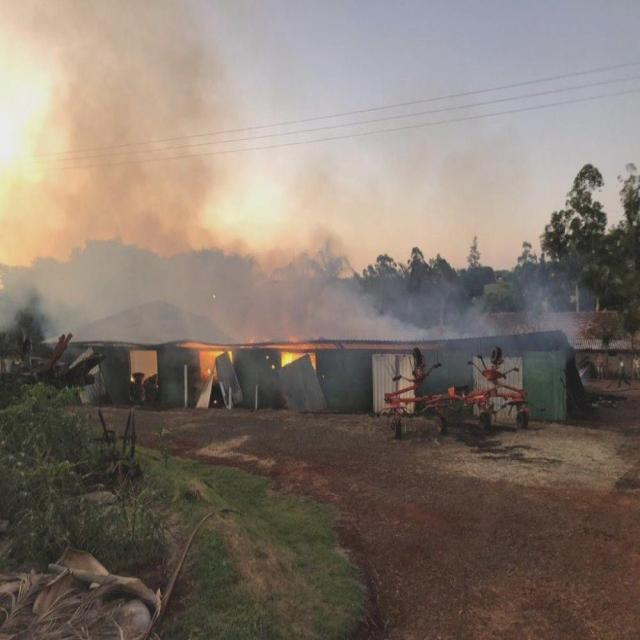Fire: (189, 342, 224, 359), (280, 349, 299, 366)
Smoke: (48, 24, 566, 344)
